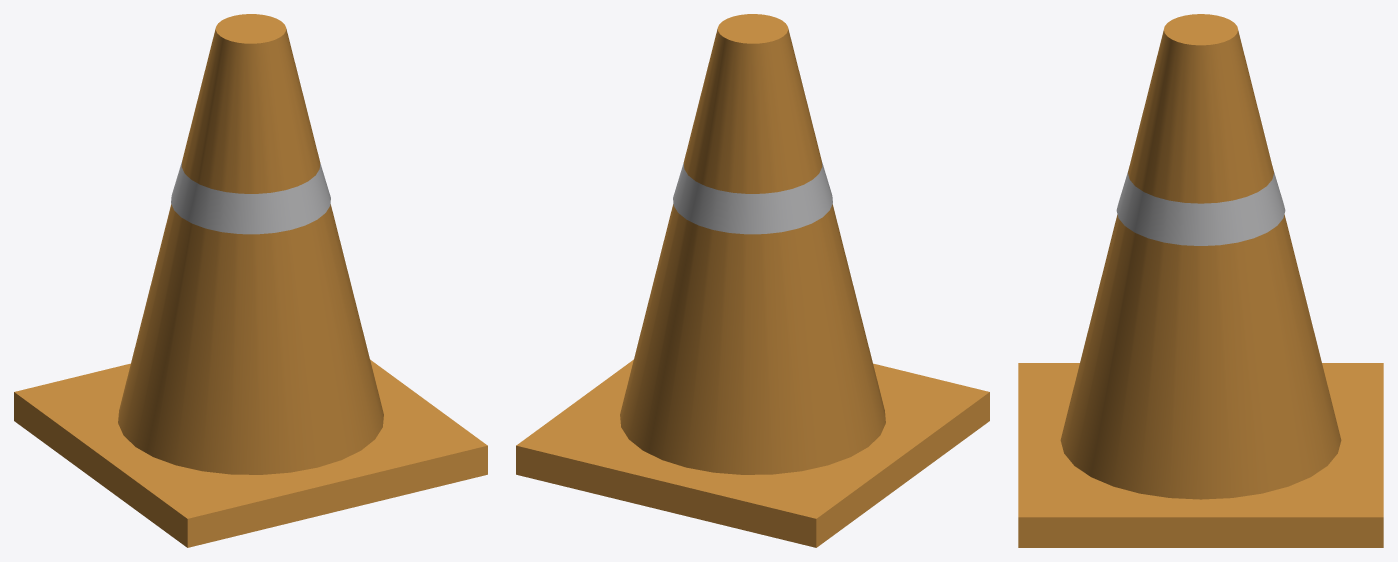
File: 08_traffic_cone.glb
3 views of the same model, side by side, from view 1: azimuth 30°, elevation 25°; view 2: azimuth 150°, elevation 25°; view 3: azimuth 270°, elevation 25° (orthographic). The views are drawn at different scales.
Parts seen in each view (by area): view 1: TrafficCone; view 2: TrafficCone; view 3: TrafficCone.
Part boxes in pixels (x1,y1,x2,y2): TrafficCone: (14, 14, 487, 547); TrafficCone: (516, 14, 989, 547); TrafficCone: (1018, 14, 1383, 547).
Bounding box in the file's own units: 0.54 × 0.72 × 0.54.
